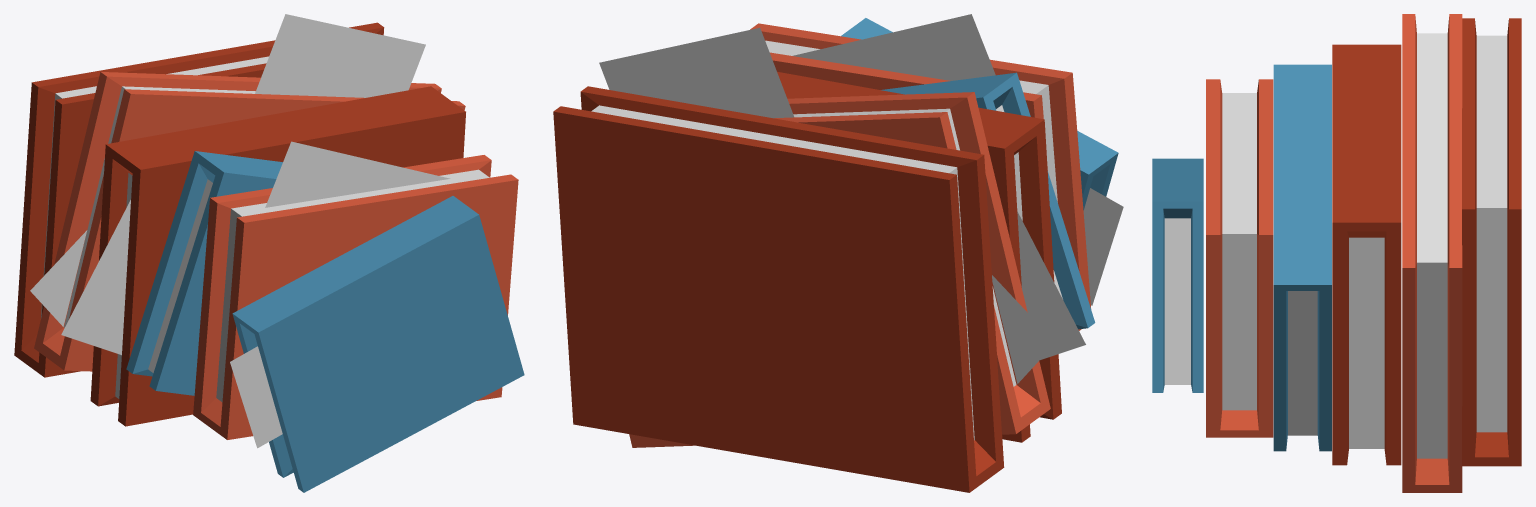
File: Book_Pile_2_Alt.obj
The picture shows the model from 3 angles, left to right: view 1: azimuth 30°, elevation 25°; view 2: azimuth 150°, elevation 25°; view 3: azimuth 270°, elevation 25°; orthographic projection. The views are drawn at different scales.
Visible parts, largest first — view 1: Book_Pile_2_Alt; view 2: Book_Pile_2_Alt; view 3: Book_Pile_2_Alt.
Boxes of the visible parts, x1,y1,x2,y2 form: Book_Pile_2_Alt: (14,14,524,492); Book_Pile_2_Alt: (553,14,1123,492); Book_Pile_2_Alt: (1152,14,1521,492).
Bounding box in the file's own units: 0.3239 × 0.2799 × 0.2496.
